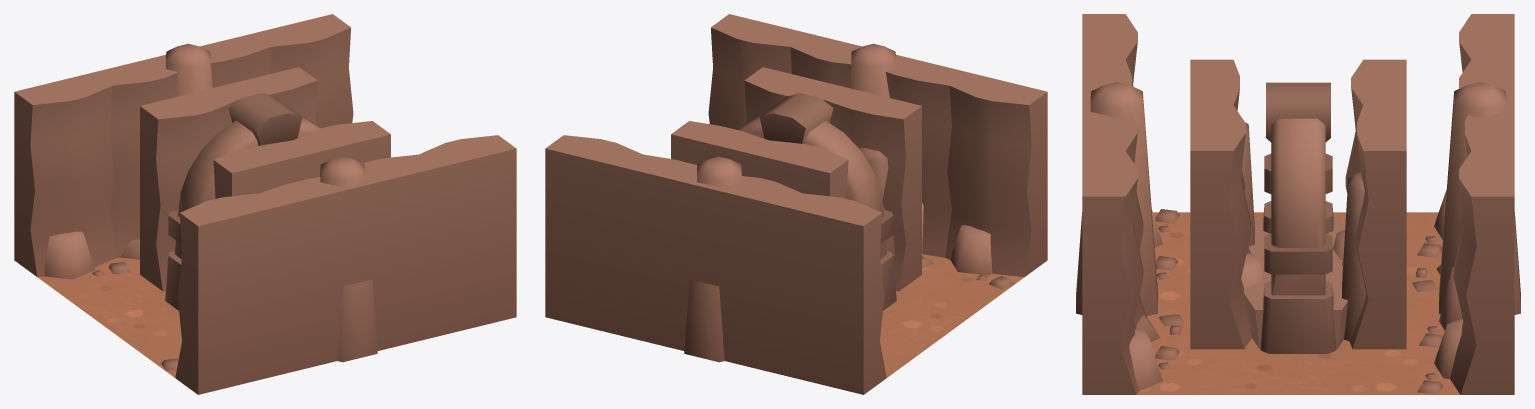
Rendered from mina-subterranea.glb.
3 views of the same model, side by side, from view 1: azimuth 30°, elevation 25°; view 2: azimuth 150°, elevation 25°; view 3: azimuth 270°, elevation 25° (orthographic). The views are drawn at different scales.
Parts seen in each view (by area): view 1: corridor-wide, corridor, gate-metal-bars; view 2: corridor-wide, corridor, gate-metal-bars; view 3: corridor-wide, corridor, gate-metal-bars, gate-overhang.
Boxes of the visible parts, x1,y1,x2,y2 form: corridor-wide: [14, 14, 516, 394]; corridor: [140, 67, 390, 291]; gate-metal-bars: [165, 93, 320, 310]; corridor-wide: [545, 14, 1047, 394]; corridor: [671, 67, 921, 291]; gate-metal-bars: [738, 93, 896, 310]; corridor-wide: [1076, 14, 1520, 394]; corridor: [1190, 59, 1406, 349]; gate-metal-bars: [1260, 82, 1336, 353]; gate-overhang: [1243, 218, 1348, 349].
Size of the model in its own units: 32 by 17.6 by 32.94.
Materials: 8 (4 with a texture image).
